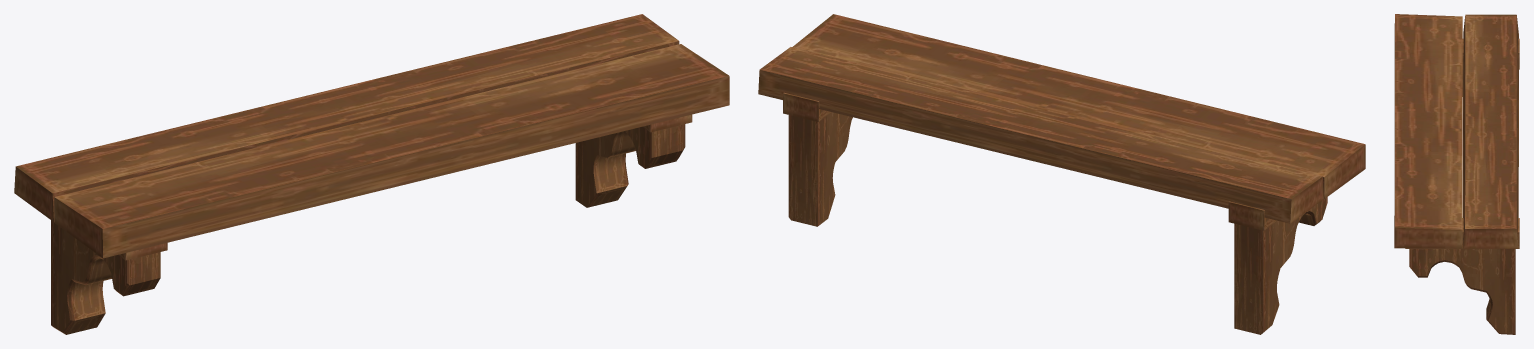
Rendered from Shelf Simple.glb.
The picture shows the model from 3 angles, left to right: view 1: azimuth 30°, elevation 25°; view 2: azimuth 150°, elevation 25°; view 3: azimuth 270°, elevation 25°; orthographic projection. The views are drawn at different scales.
Visible parts, largest first — view 1: Shelf_Simple; view 2: Shelf_Simple; view 3: Shelf_Simple.
Part boxes in pixels (bbox=[...]): Shelf_Simple: bbox=[14, 14, 729, 334]; Shelf_Simple: bbox=[758, 14, 1365, 334]; Shelf_Simple: bbox=[1394, 14, 1519, 334].
Bounding box in the file's own units: 1.18 × 0.3087 × 0.2923.
Materials: 1 (1 with a texture image).
